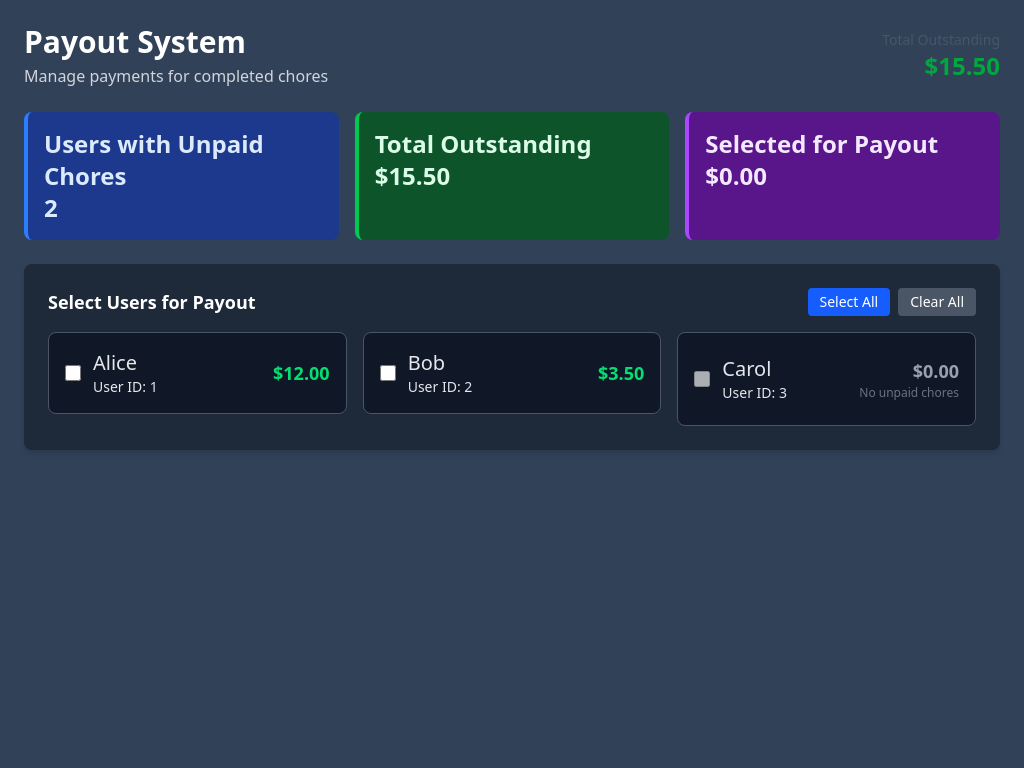
Scenario: AdminPayoutSystem summary figures › Select All selects every non-zero-balance user (excludes Carol); Clear All empties the selection
Expected: the heading "Payout System" is shown, [24,21,246,62]
Click the button "Select All" at (849, 302), box [808,288,890,316]
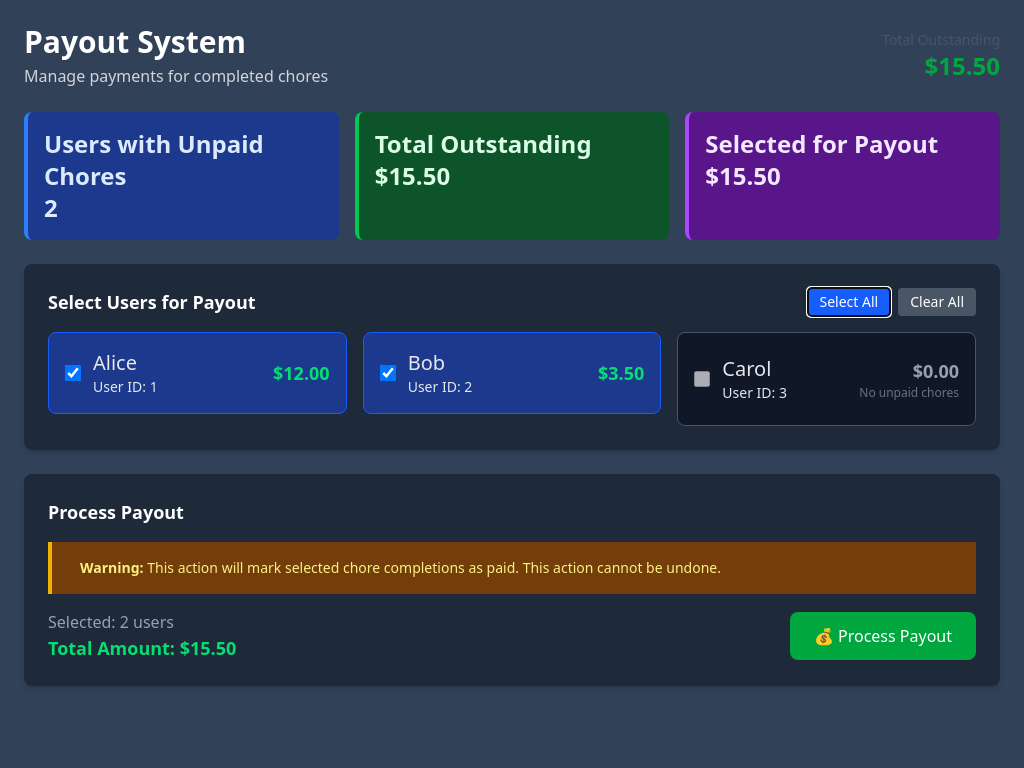
Result: the text "$15.50" below "Selected for Payout" is shown at [705,159,781,192]
Result: the text "Selected: 2 users" is shown at [48,611,174,633]
Click the button "Clear All" at (937, 302), box [898,288,976,316]
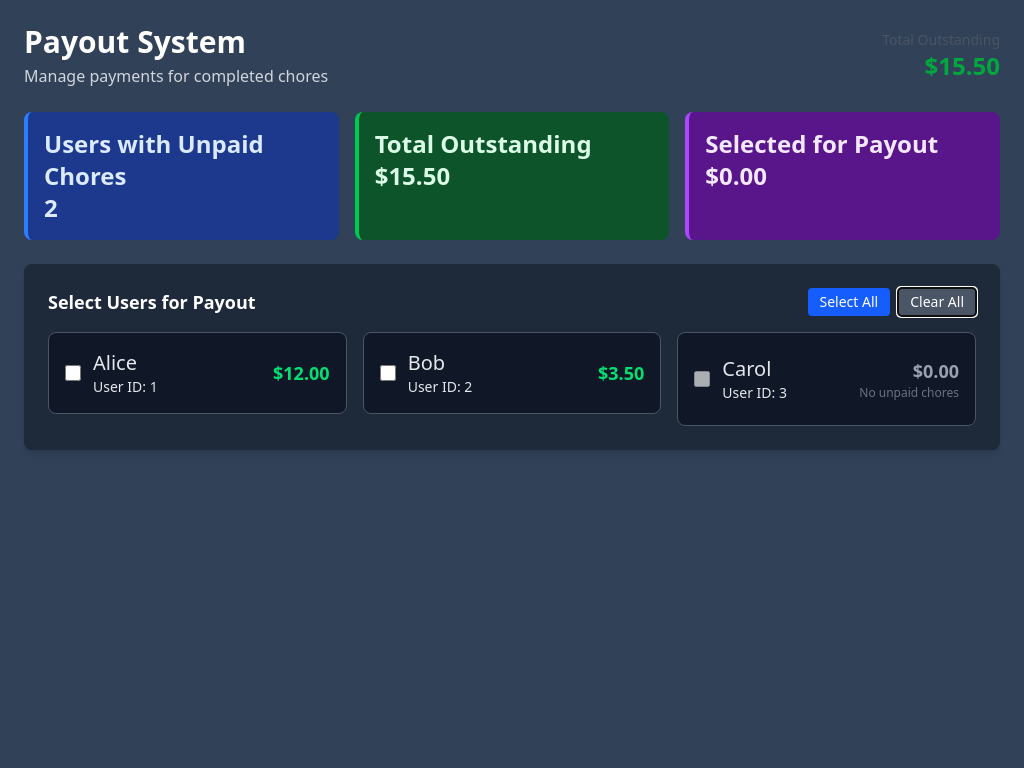
Result: the text "$0.00" below "Selected for Payout" is shown at [705,159,767,192]
Result: the heading "Process Payout" is gone
